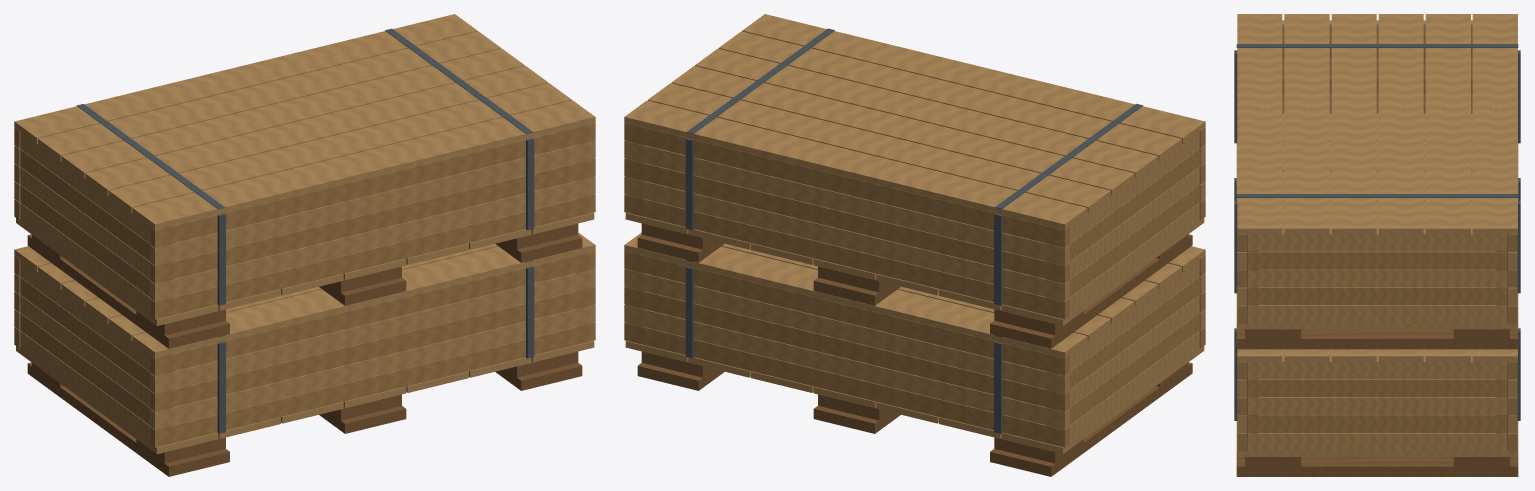
The model's file is wooden-crate-stack.glb.
The picture shows the model from 3 angles, left to right: view 1: azimuth 30°, elevation 25°; view 2: azimuth 150°, elevation 25°; view 3: azimuth 270°, elevation 25°; orthographic projection.
Parts seen in each view (by area): view 1: wooden-crate-single-woodLight (×2), wooden-crate-single-woodMedium (×2), wooden-crate-single-woodDark (×2), wooden-crate-single-steelBand (×2); view 2: wooden-crate-single-woodLight (×2), wooden-crate-single-woodMedium (×2), wooden-crate-single-woodDark (×2), wooden-crate-single-steelBand (×2); view 3: wooden-crate-single-woodLight (×2), wooden-crate-single-woodMedium (×2), wooden-crate-single-woodDark (×2), wooden-crate-single-steelBand (×2).
Boxes of the visible parts, <box> form: wooden-crate-single-woodLight (×2): <box>14,14,595,454</box>; wooden-crate-single-woodMedium (×2): <box>14,123,595,447</box>; wooden-crate-single-woodDark (×2): <box>20,141,593,476</box>; wooden-crate-single-steelBand (×2): <box>76,28,534,433</box>; wooden-crate-single-woodLight (×2): <box>624,14,1205,453</box>; wooden-crate-single-woodMedium (×2): <box>624,123,1205,447</box>; wooden-crate-single-woodDark (×2): <box>626,141,1199,476</box>; wooden-crate-single-steelBand (×2): <box>685,28,1143,433</box>; wooden-crate-single-woodLight (×2): <box>1236,14,1518,456</box>; wooden-crate-single-woodMedium (×2): <box>1237,42,1517,451</box>; wooden-crate-single-woodDark (×2): <box>1236,234,1518,476</box>; wooden-crate-single-steelBand (×2): <box>1234,44,1520,420</box>.
Size of the model in its own units: 1.8 by 1 by 1.02.
4 materials, 3 textured.
